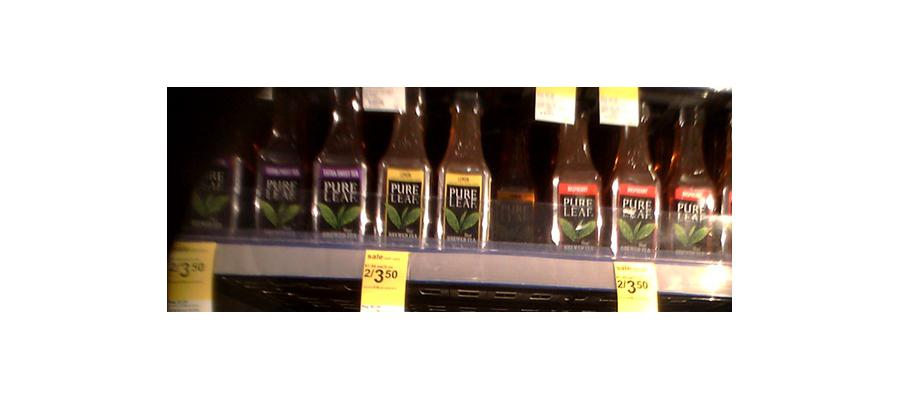bottle: (434, 84, 491, 248), (375, 81, 428, 245), (608, 97, 661, 255), (257, 89, 311, 233), (316, 83, 366, 236), (551, 98, 603, 245), (185, 106, 243, 230), (666, 100, 713, 253)
